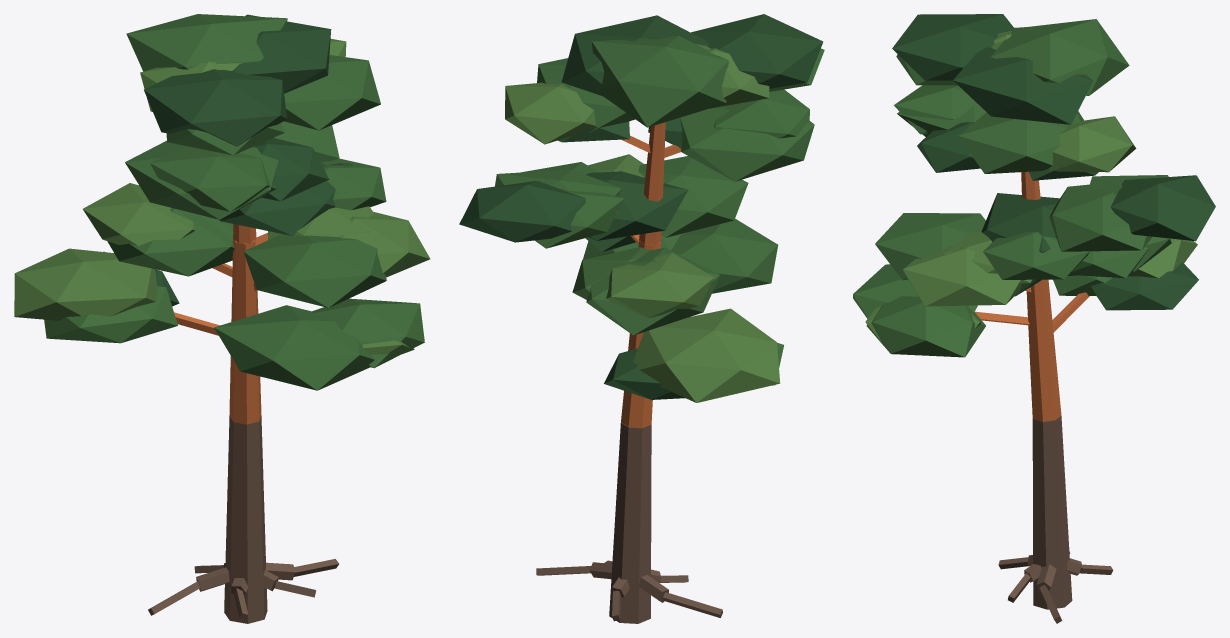
Rendered from tall_4.glb.
The picture shows the model from 3 angles, left to right: view 1: azimuth 30°, elevation 25°; view 2: azimuth 150°, elevation 25°; view 3: azimuth 270°, elevation 25°; orthographic projection. The views are drawn at different scales.
Parts seen in each view (by area): view 1: tall_4; view 2: tall_4; view 3: tall_4.
Part boxes in pixels (bbox=[...]): tall_4: bbox=[14, 14, 430, 623]; tall_4: bbox=[459, 14, 824, 623]; tall_4: bbox=[853, 14, 1215, 623].
Size of the model in its own units: 6.92 by 12.47 by 7.42.
